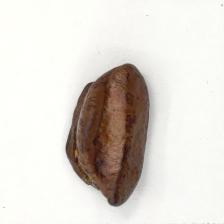NG: (64, 61, 129, 208)
